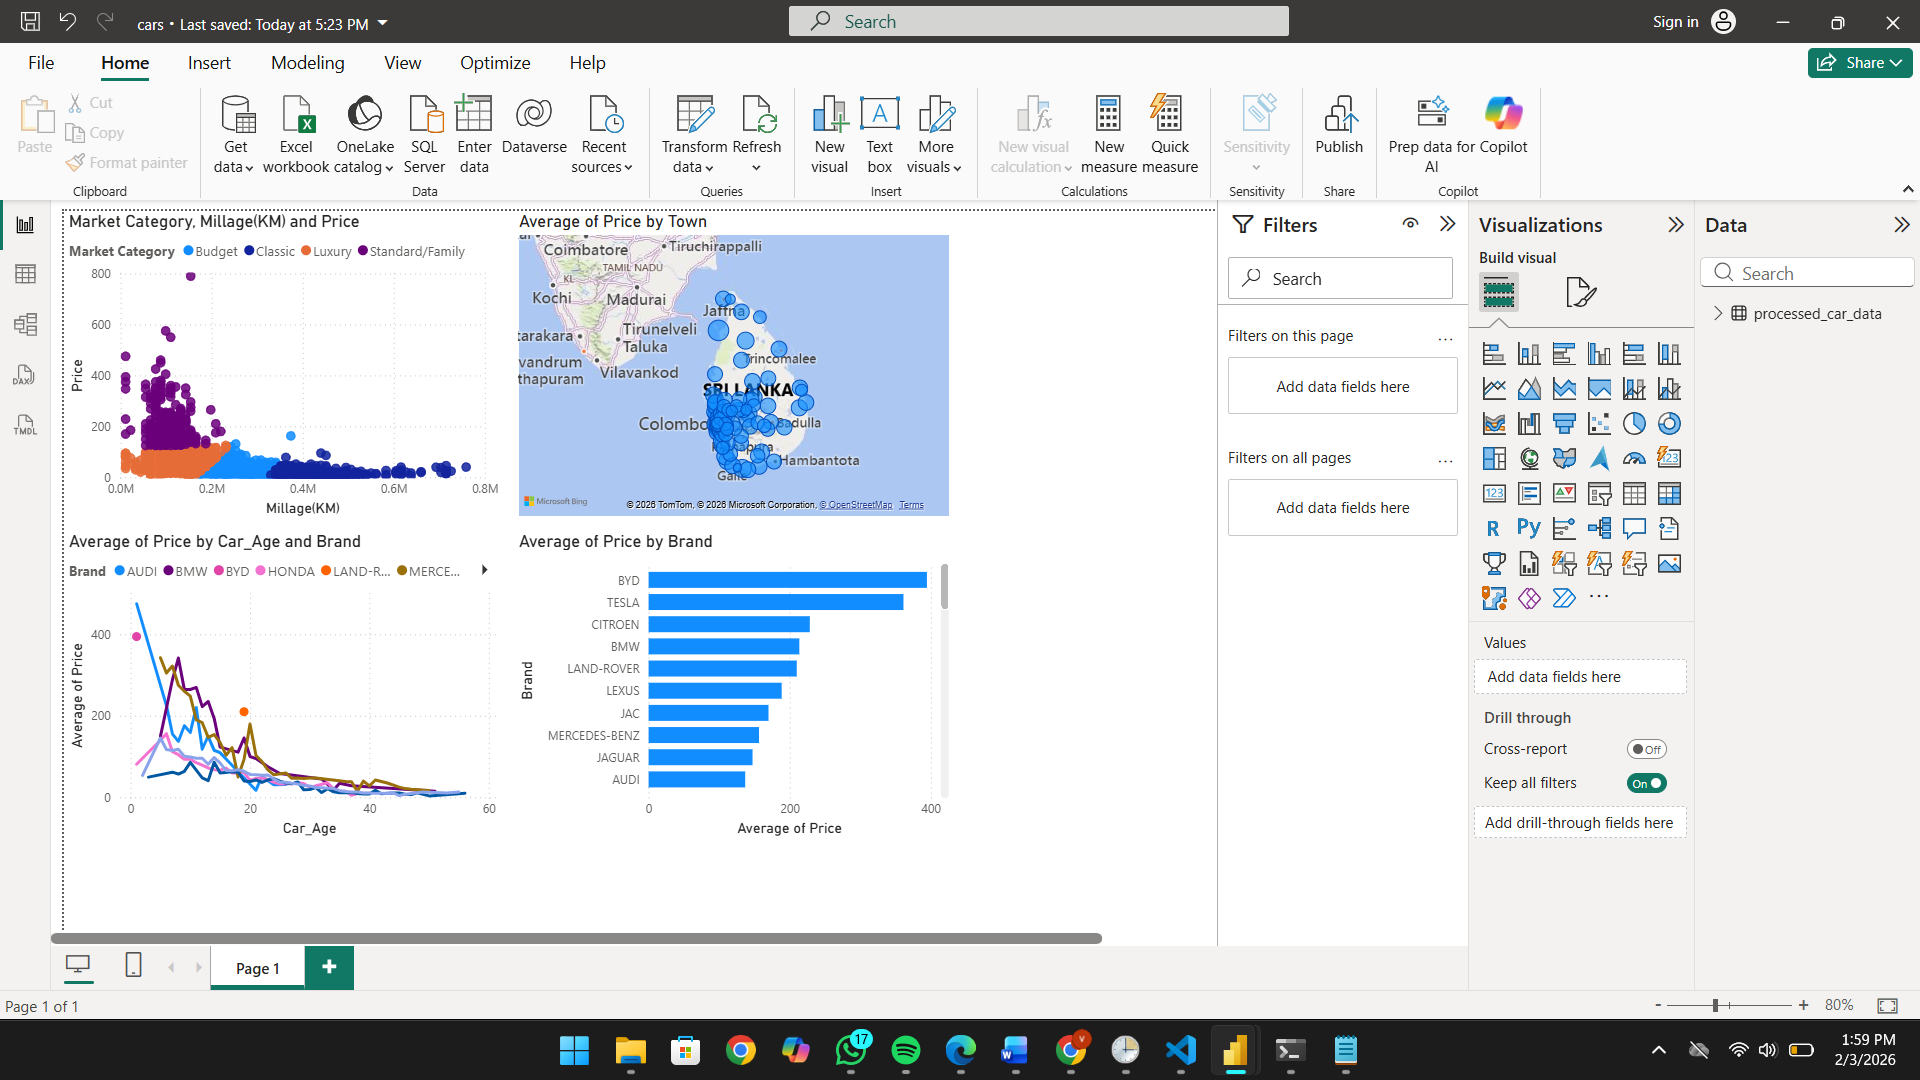

What the dashboard file says about the page in this screenshot:
{"tool":"powerbi","page":{"name":"Page 1","canvas":[1280,720],"ordinal":0},"visuals":[{"type":"scatterChart","fields":{"X":["processed_car_data.Millage(KM)"],"Y":["processed_car_data.Price"],"Series":["processed_car_data.Market Category"]},"box":[0,0,440,310],"z":0},{"type":"lineChart","fields":{"Category":["processed_car_data.Car_Age"],"Y":["processed_car_data.Price"],"Series":["processed_car_data.Brand"]},"box":[0,320,440,310],"z":1000},{"type":"map","fields":{"Category":["processed_car_data.Town"],"Size":["processed_car_data.Price"]},"box":[450,0,440,310],"z":2000},{"type":"clusteredBarChart","fields":{"Category":["processed_car_data.Brand"],"Y":["processed_car_data.Price"]},"box":[450,320,440,310],"z":2001}]}

Visuals, with their boxes on the page's 1280x720 design canvas (x1, y1, x2, y2). These are canvas units, not pixel positions in the 1920x1080 screenshot, which may show the page scaled, cropped or inside an application window:
scatterChart - processed_car_data.Millage(KM) x processed_car_data.Price: rect(0, 0, 440, 310)
lineChart - processed_car_data.Car_Age x processed_car_data.Price: rect(0, 320, 440, 630)
map - processed_car_data.Town x processed_car_data.Price: rect(450, 0, 890, 310)
clusteredBarChart - processed_car_data.Brand x processed_car_data.Price: rect(450, 320, 890, 630)
